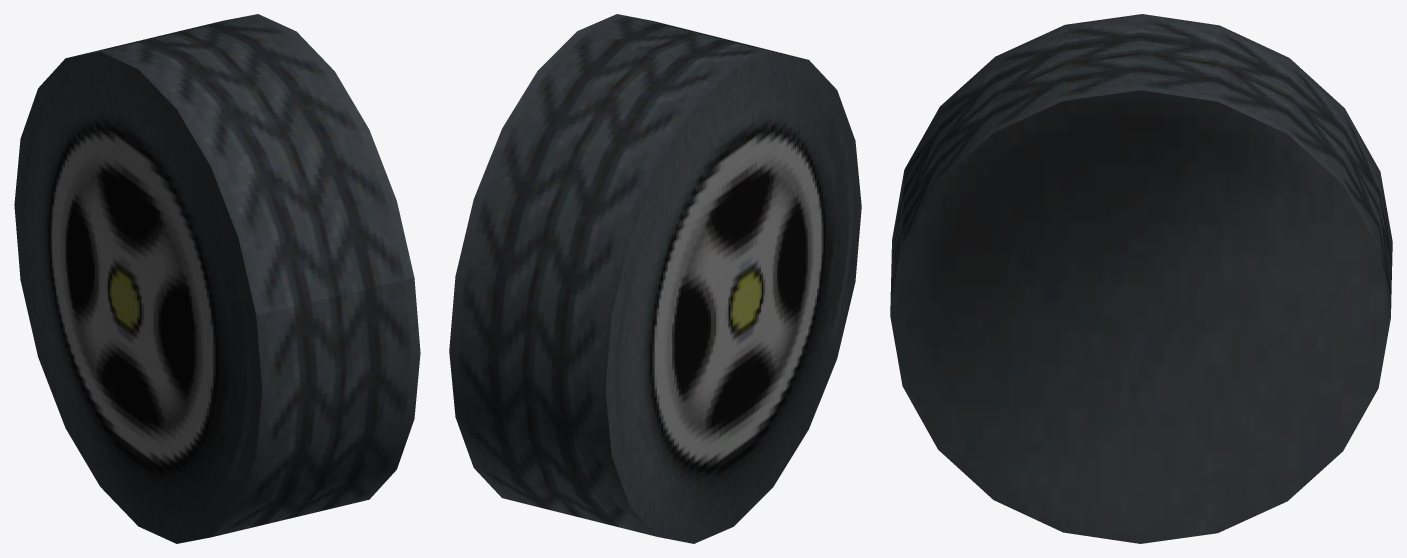
The model's file is exemple_wheel.glb.
The picture shows the model from 3 angles, left to right: view 1: azimuth 30°, elevation 25°; view 2: azimuth 150°, elevation 25°; view 3: azimuth 270°, elevation 25°; orthographic projection.
Parts seen in each view (by area): view 1: Tire_Frontwe__M_CarWiicm; view 2: Tire_Frontwe__M_CarWiicm; view 3: Tire_Frontwe__M_CarWiicm.
Boxes of the visible parts, left/top/right/bottom form: Tire_Frontwe__M_CarWiicm: left=14, top=14, right=420, bottom=543; Tire_Frontwe__M_CarWiicm: left=449, top=14, right=861, bottom=543; Tire_Frontwe__M_CarWiicm: left=890, top=14, right=1392, bottom=543.
Bounding box in the file's own units: 0.2386 × 0.5972 × 0.5994.
Materials: 1 (1 with a texture image).
